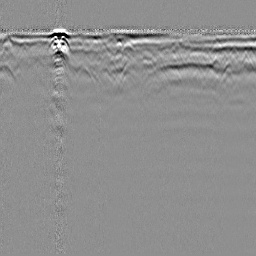cavity: (121, 40, 135, 52)
